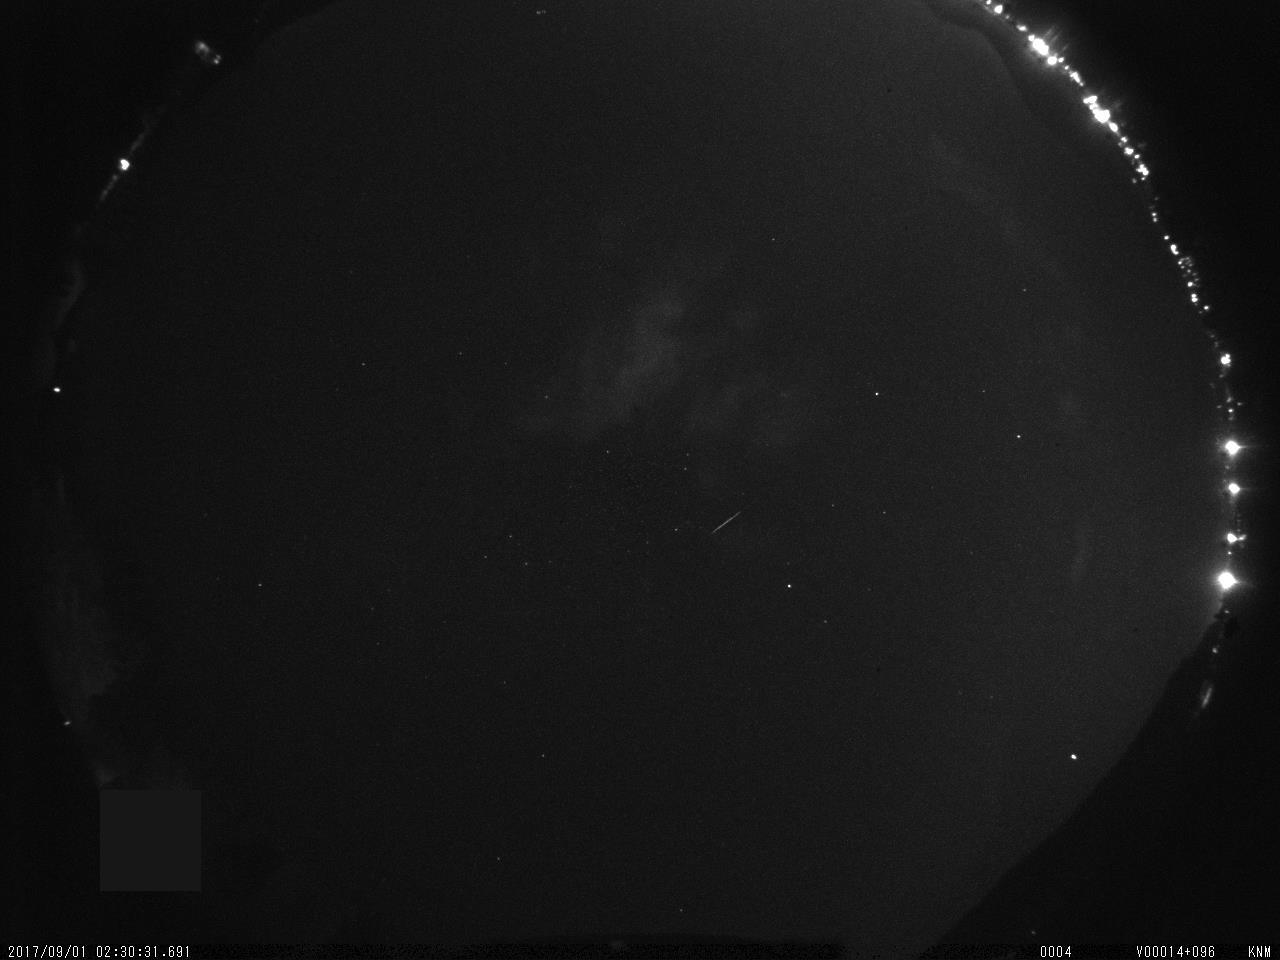meteor: (700, 497, 757, 548)
